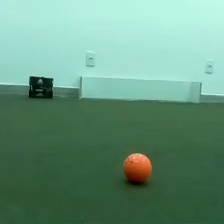ball: (121, 150, 154, 186)
goal: (77, 75, 204, 105)
robot: (26, 74, 54, 100)
